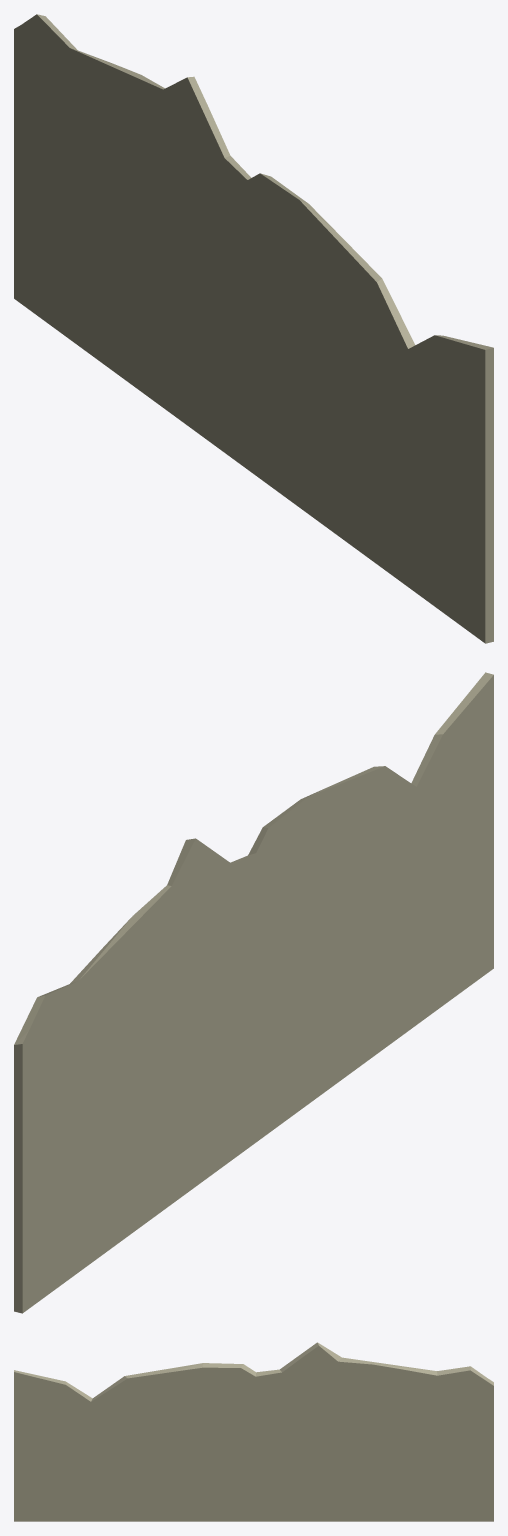
File: LargeWallBroken.fbx
3 views of the same model, one above another, from view 1: azimuth 30°, elevation 25°; view 2: azimuth 150°, elevation 25°; view 3: azimuth 270°, elevation 25° (orthographic). The views are drawn at different scales.
Visible parts, largest first — view 1: LargeWallBroken; view 2: LargeWallBroken; view 3: LargeWallBroken.
Part boxes in pixels (bbox=[...]): LargeWallBroken: bbox=[14, 14, 493, 643]; LargeWallBroken: bbox=[14, 672, 493, 1313]; LargeWallBroken: bbox=[14, 1342, 493, 1521].
Size of the model in its own units: 0.25 by 9.78 by 24.
